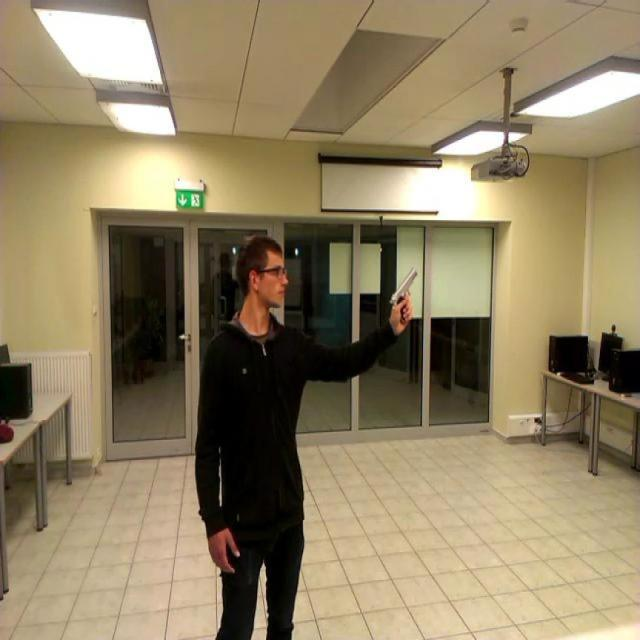pistol: (391, 266, 418, 324)
